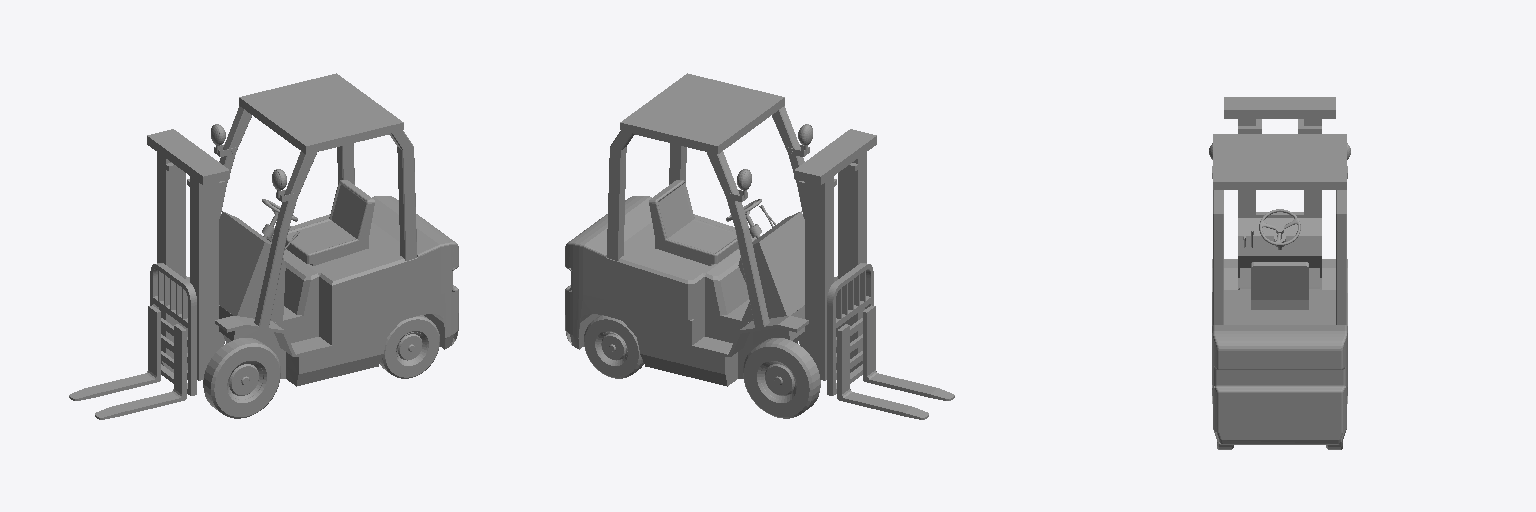
The model's file is car.obj.
3 renders of one model, left to right at view 1: azimuth 30°, elevation 25°; view 2: azimuth 150°, elevation 25°; view 3: azimuth 270°, elevation 25°, orthographic.
Visible parts, largest first — view 1: Roof, Cube_1, Cube.3, Cube.12_5, Panel, Tube, Cube.13_1, Cube.4, Cube.12, Tube_1, Cube.6, Sweep (+2 smaller); view 2: Roof, Cube_1, Cube.3, Cube.12_5, Panel, Tube, Cube.13_1, Cube.4, Cube.12, Tube_1, Cube.6, Sweep (+2 smaller); view 3: Cube_1, Roof, Panel, Cube.3, Cube.12, Cube.6, Cube.12_5, Cube.4.
Part boxes in pixels (bbox=[...]): Roof: bbox=[219, 73, 416, 327]; Cube_1: bbox=[186, 196, 458, 386]; Cube.3: bbox=[267, 214, 417, 320]; Cube.12_5: bbox=[157, 152, 218, 380]; Panel: bbox=[219, 211, 285, 322]; Tube: bbox=[161, 332, 280, 418]; Cube.13_1: bbox=[69, 305, 186, 419]; Cube.4: bbox=[285, 219, 368, 263]; Cube.12: bbox=[147, 129, 229, 185]; Tube_1: bbox=[380, 315, 439, 378]; Cube.6: bbox=[329, 180, 374, 240]; Sweep: bbox=[150, 263, 196, 395]; Roof: bbox=[607, 73, 804, 327]; Cube_1: bbox=[565, 196, 837, 386]; Cube.3: bbox=[606, 214, 756, 319]; Cube.12_5: bbox=[805, 152, 866, 380]; Panel: bbox=[738, 211, 804, 322]; Tube: bbox=[743, 332, 862, 418]; Cube.13_1: bbox=[837, 305, 954, 419]; Cube.4: bbox=[655, 219, 738, 263]; Cube.12: bbox=[794, 129, 876, 185]; Tube_1: bbox=[584, 315, 643, 378]; Cube.6: bbox=[649, 180, 694, 245]; Sweep: bbox=[827, 263, 873, 395]; Cube_1: bbox=[1212, 259, 1347, 444]; Roof: bbox=[1213, 134, 1346, 324]; Panel: bbox=[1238, 218, 1321, 288]; Cube.3: bbox=[1212, 287, 1347, 366]; Cube.12: bbox=[1224, 97, 1335, 118]; Cube.6: bbox=[1251, 262, 1308, 299]; Cube.12_5: bbox=[1238, 119, 1321, 217]; Cube.4: bbox=[1251, 300, 1308, 309].
Bounding box in the file's own units: 1.39 × 1.01 × 0.4974.